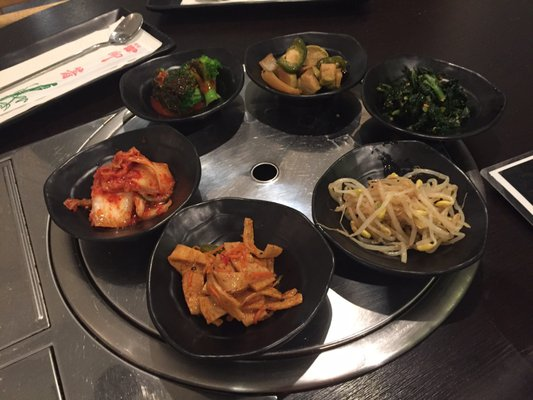sushi: (144, 197, 335, 361), (310, 141, 490, 278), (43, 119, 202, 243), (242, 31, 369, 140), (362, 53, 507, 140), (118, 53, 245, 129)
